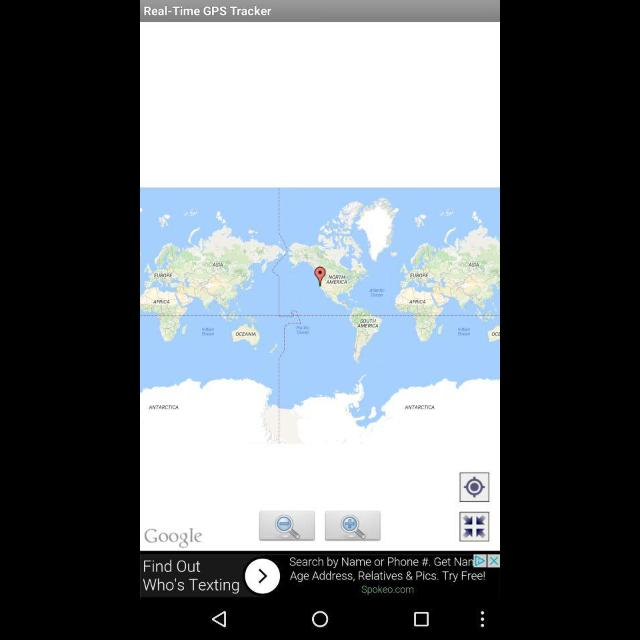icon: (258, 508, 314, 540), (325, 510, 381, 540), (460, 471, 490, 501), (460, 512, 490, 542), (311, 611, 329, 627), (212, 611, 226, 627), (414, 612, 430, 626), (477, 608, 487, 628)
iframe: (142, 552, 500, 596)
map: (140, 186, 500, 552)
panel: (141, 597, 499, 639), (141, 1, 499, 22)
text: (144, 6, 276, 16)
